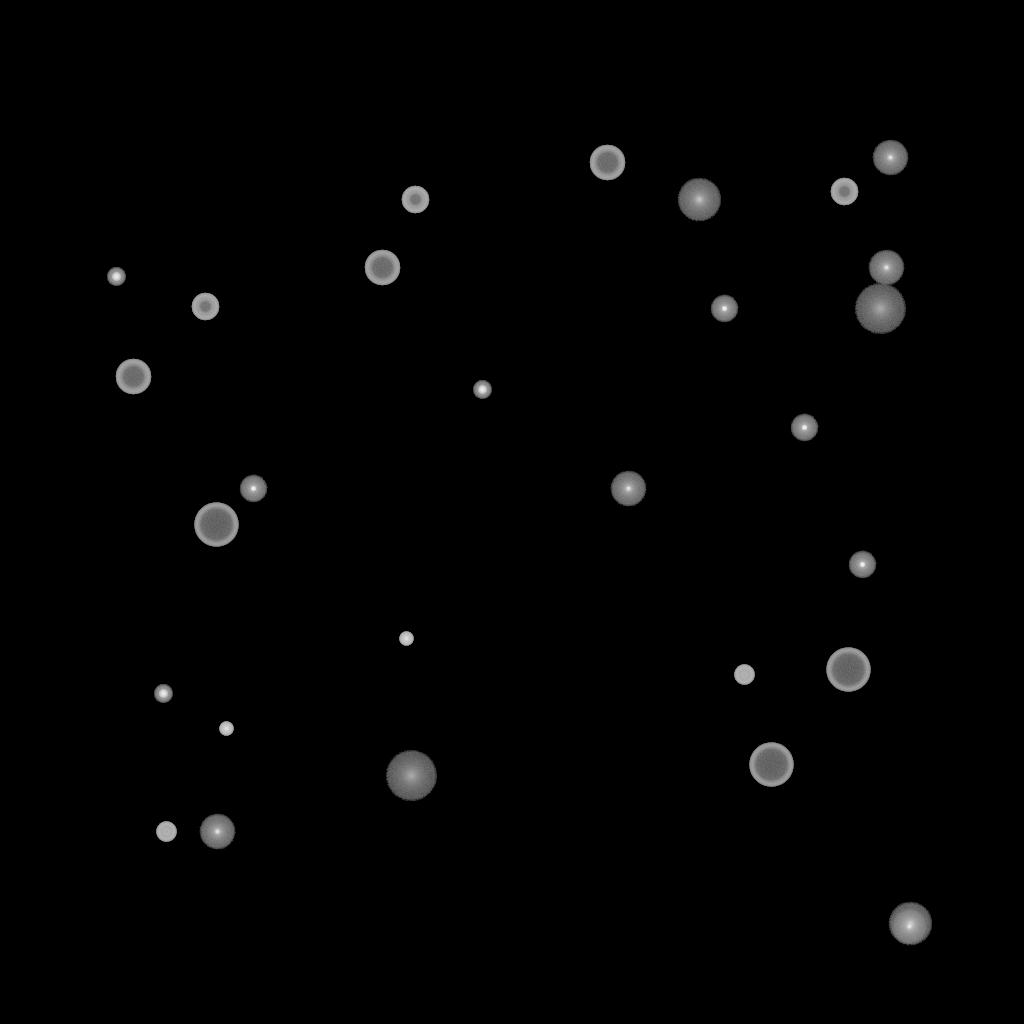depth:-10: (848, 551, 876, 579), (790, 414, 818, 442), (239, 475, 267, 503), (710, 295, 738, 323)
depth:-20: (473, 381, 491, 399), (154, 685, 172, 703), (107, 268, 125, 286)
depth:-30: (399, 632, 413, 646), (219, 722, 233, 736)
depth:-40: (734, 665, 754, 685), (156, 822, 176, 842)
depth:-50: (191, 293, 219, 321), (401, 186, 429, 214), (830, 178, 858, 206)
depth:-60: (589, 145, 625, 181), (115, 359, 151, 395), (364, 250, 400, 286)
depth:-70: (826, 648, 870, 692), (749, 743, 793, 787), (194, 503, 238, 547)
depth:0: (610, 471, 646, 507), (199, 814, 235, 850), (868, 250, 904, 286), (872, 140, 908, 176), (891, 909, 927, 945)
depth:10: (888, 902, 932, 946), (677, 178, 721, 222)
depth:20: (854, 284, 906, 334), (385, 751, 437, 801)
